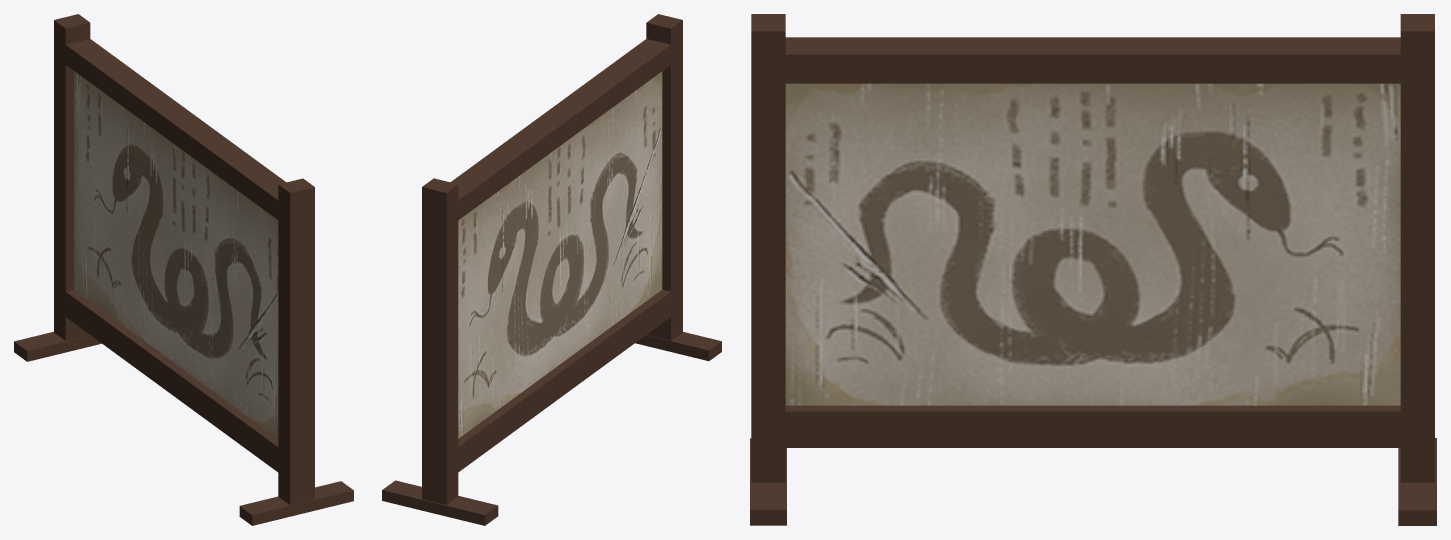
Rendered from snake.fbx.
3 renders of one model, left to right at view 1: azimuth 30°, elevation 25°; view 2: azimuth 150°, elevation 25°; view 3: azimuth 270°, elevation 25°, orthographic. The views are drawn at different scales.
Visible parts, largest first — view 1: snake; view 2: snake; view 3: snake.
Part boxes in pixels (bbox=[...]): snake: bbox=[14, 14, 353, 525]; snake: bbox=[382, 14, 721, 525]; snake: bbox=[750, 14, 1436, 525].
Bounding box in the file's own units: 1 × 3 × 4.
